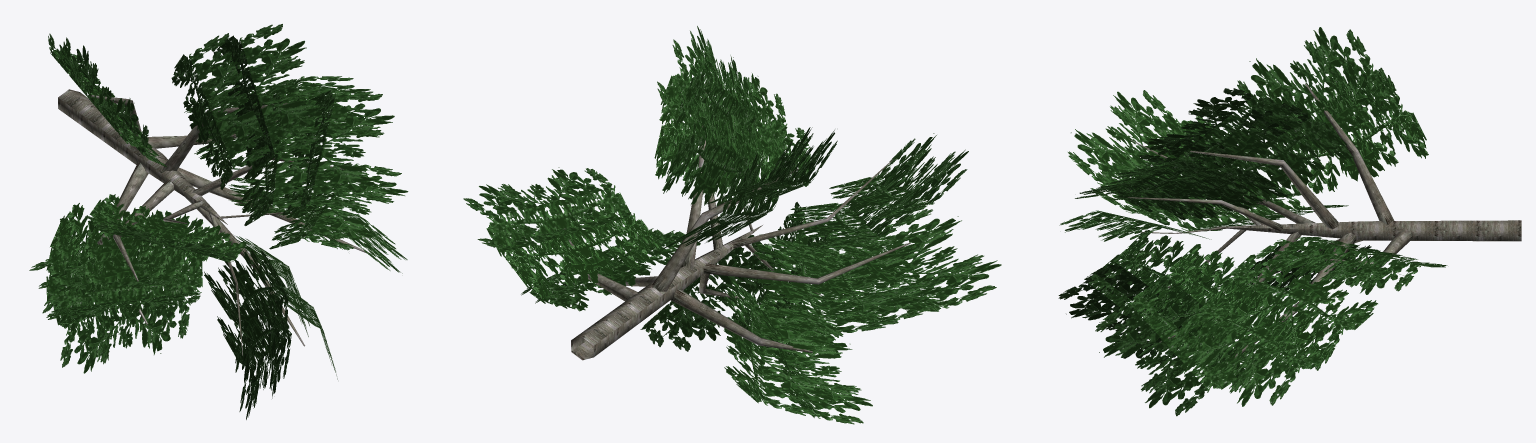
The model's file is cherry_bb1.obj.
3 views of the same model, side by side, from view 1: azimuth 30°, elevation 25°; view 2: azimuth 150°, elevation 25°; view 3: azimuth 270°, elevation 25° (orthographic). The views are drawn at different scales.
Parts seen in each view (by area): view 1: plant_pmat3, plant_pmat2, plant_pmat1; view 2: plant_pmat3, plant_pmat2, plant_pmat1; view 3: plant_pmat3, plant_pmat2, plant_pmat1.
Boxes of the visible parts, x1=… form: plant_pmat3: x1=29, y1=24, x2=408, y2=419; plant_pmat2: x1=90, y1=95, x2=369, y2=355; plant_pmat1: x1=58, y1=89, x2=227, y2=224; plant_pmat3: x1=463, y1=26, x2=1001, y2=424; plant_pmat2: x1=558, y1=84, x2=910, y2=352; plant_pmat1: x1=571, y1=225, x2=762, y2=360; plant_pmat3: x1=1058, y1=27, x2=1447, y2=416; plant_pmat2: x1=1110, y1=83, x2=1412, y2=363; plant_pmat1: x1=1210, y1=220, x2=1521, y2=241.
Bounding box in the file's own units: 5.11 × 3.99 × 5.1.
